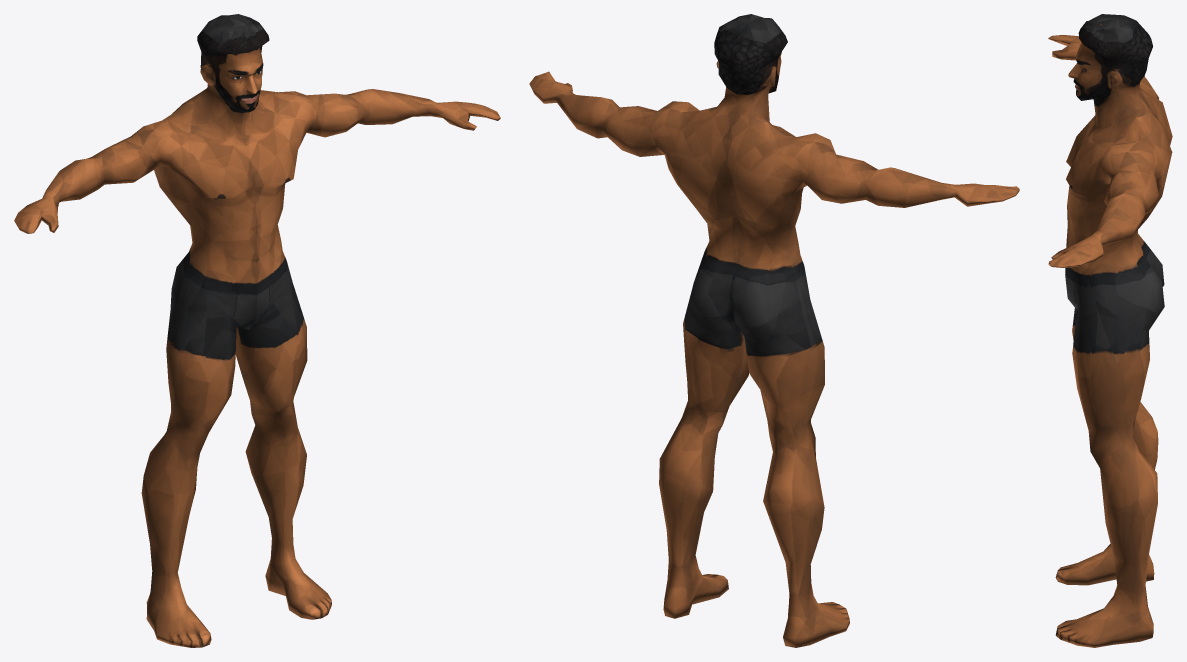
File: meshy_reference_fro.glb
The picture shows the model from 3 angles, left to right: view 1: azimuth 30°, elevation 25°; view 2: azimuth 150°, elevation 25°; view 3: azimuth 270°, elevation 25°; orthographic projection.
Size of the model in its own units: 0.8418 by 0.9992 by 0.1914.
1 material, 1 textured.
